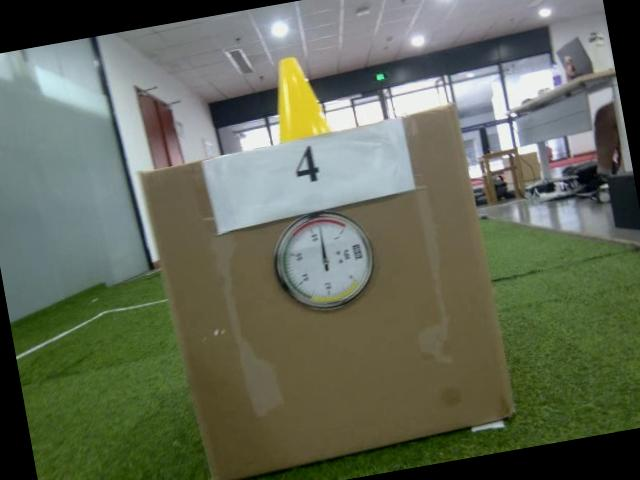4: (289, 142, 328, 189)
Dashboard: (264, 201, 385, 322)
ssi: (350, 242, 366, 261)
yellow_barrel: (264, 50, 334, 143)
